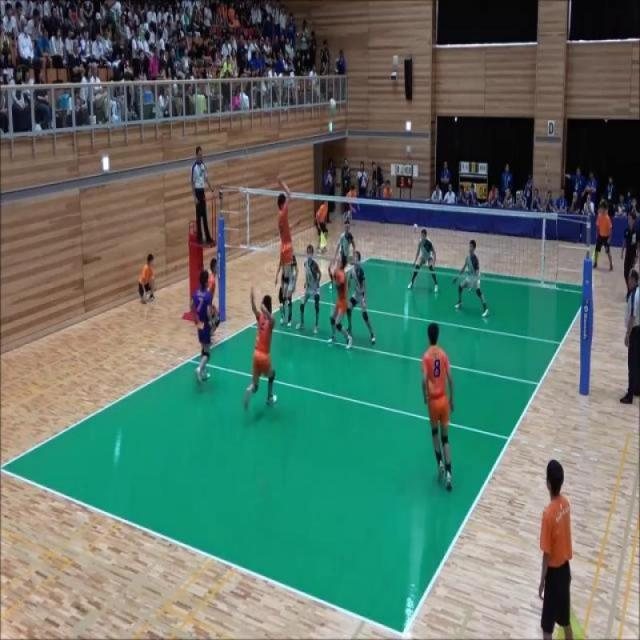volleyball: (328, 97, 337, 114), (413, 223, 418, 234)
